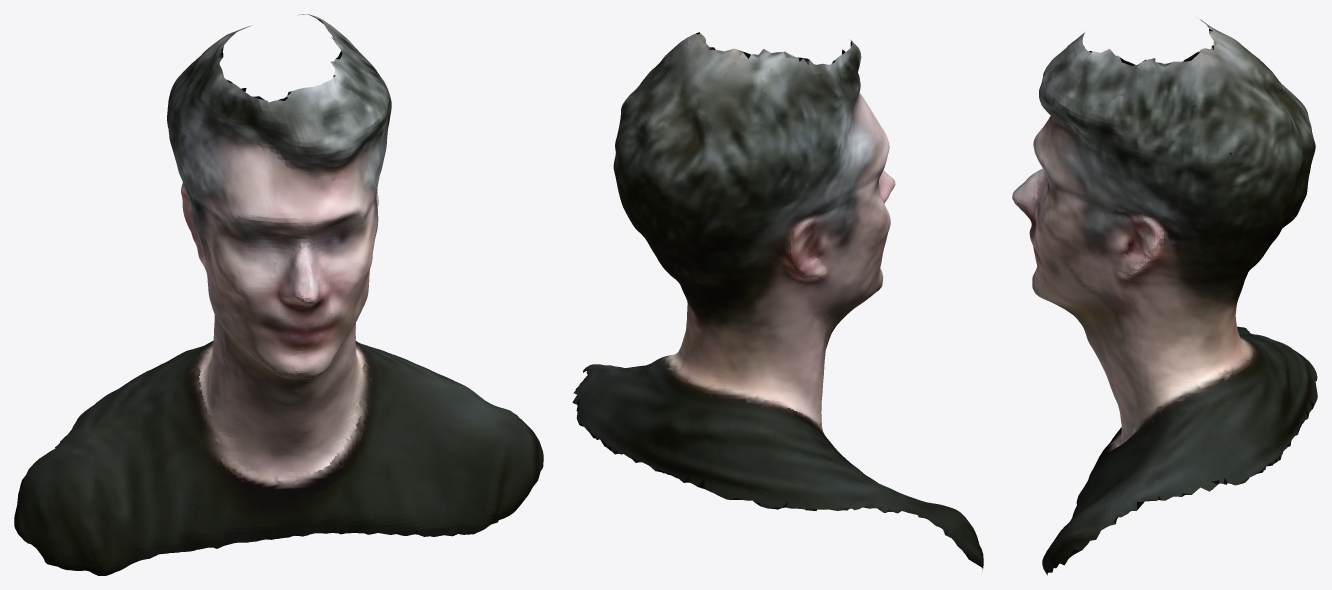
The model's file is anthony.glb.
3 views of the same model, side by side, from view 1: azimuth 30°, elevation 25°; view 2: azimuth 150°, elevation 25°; view 3: azimuth 270°, elevation 25° (orthographic). The views are drawn at different scales.
Bounding box in the file's own units: 0.4114 × 0.4231 × 0.2439.
Materials: 1 (1 with a texture image).
